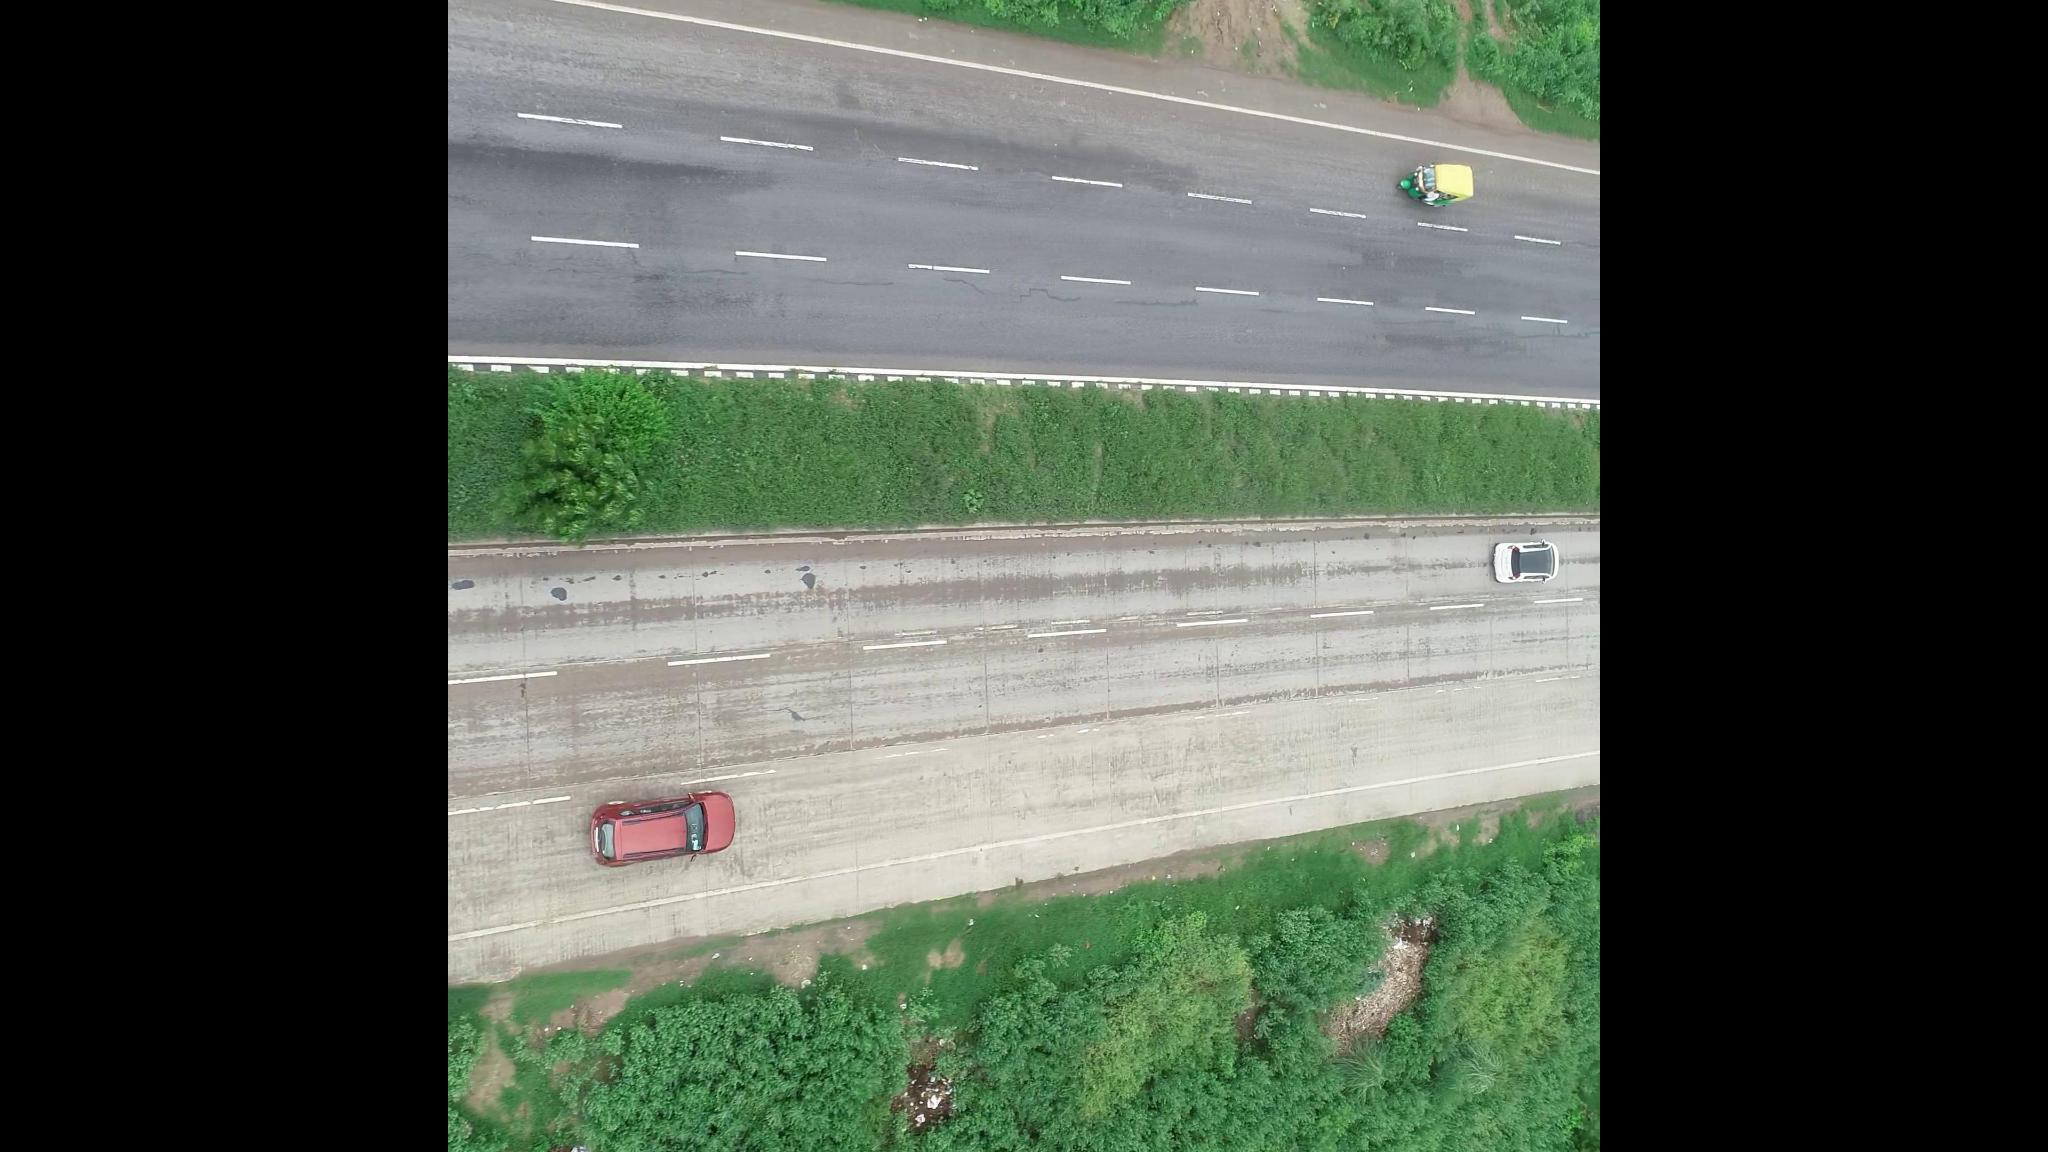Cracks: (928, 269, 1204, 333)
